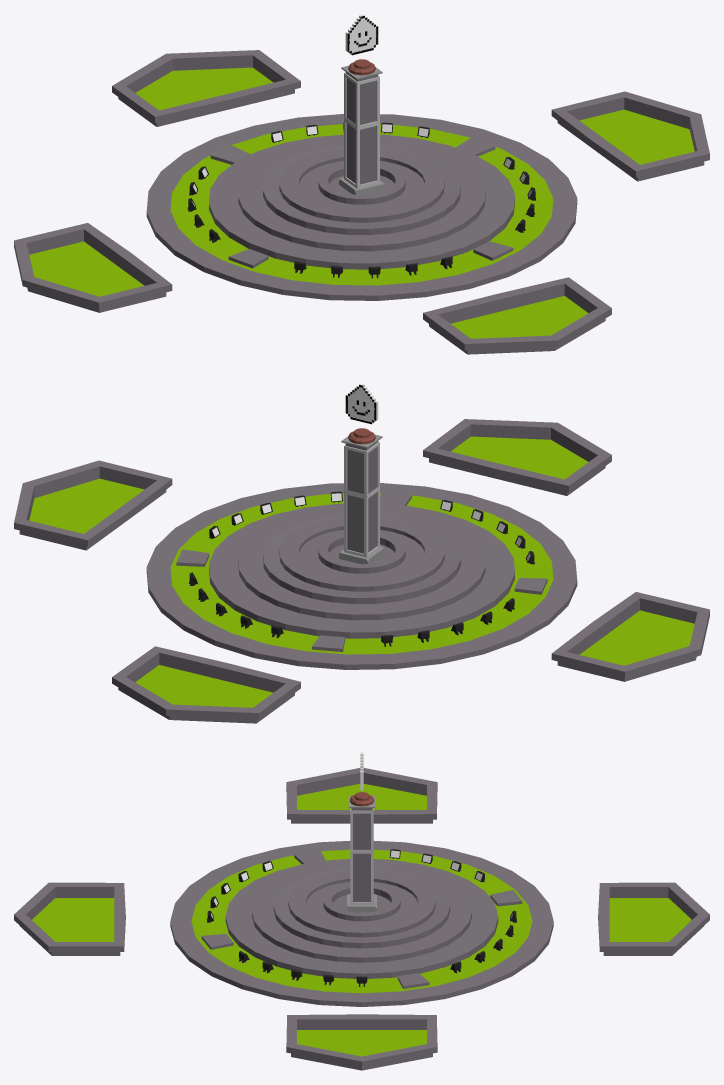
Rendered from D1_CENTRAL_PLAZA.fbx.
3 views of the same model, one above another, from view 1: azimuth 30°, elevation 25°; view 2: azimuth 150°, elevation 25°; view 3: azimuth 270°, elevation 25° (orthographic). The views are drawn at different scales.
Parts seen in each view (by area): view 1: Cylinder.005, Cube.013, Cube.012, Cylinder.006, Cube.011; view 2: Cylinder.005, Cube.013, Cube.012, Cylinder.006, Cube.011; view 3: Cylinder.005, Cube.012, Cube.013, Cylinder.006, Cube.011.
Boxes of the visible parts, x1,y1,x2,y2 form: Cylinder.005: (146,114,577,300); Cube.013: (112,50,611,354); Cube.012: (14,91,709,312); Cylinder.006: (339,14,384,194); Cube.011: (187,122,536,278); Cylinder.005: (146,483,577,669); Cube.013: (112,419,611,723); Cube.012: (14,460,709,681); Cylinder.006: (339,383,384,563); Cube.011: (189,491,534,646); Cylinder.005: (170,841,553,1006); Cube.012: (286,768,437,1070); Cube.013: (14,882,709,955); Cylinder.006: (347,752,376,912); Cube.011: (207,849,516,986).
Bounding box in the file's own units: 1479 × 405 × 1479.
8 materials, 1 textured.
